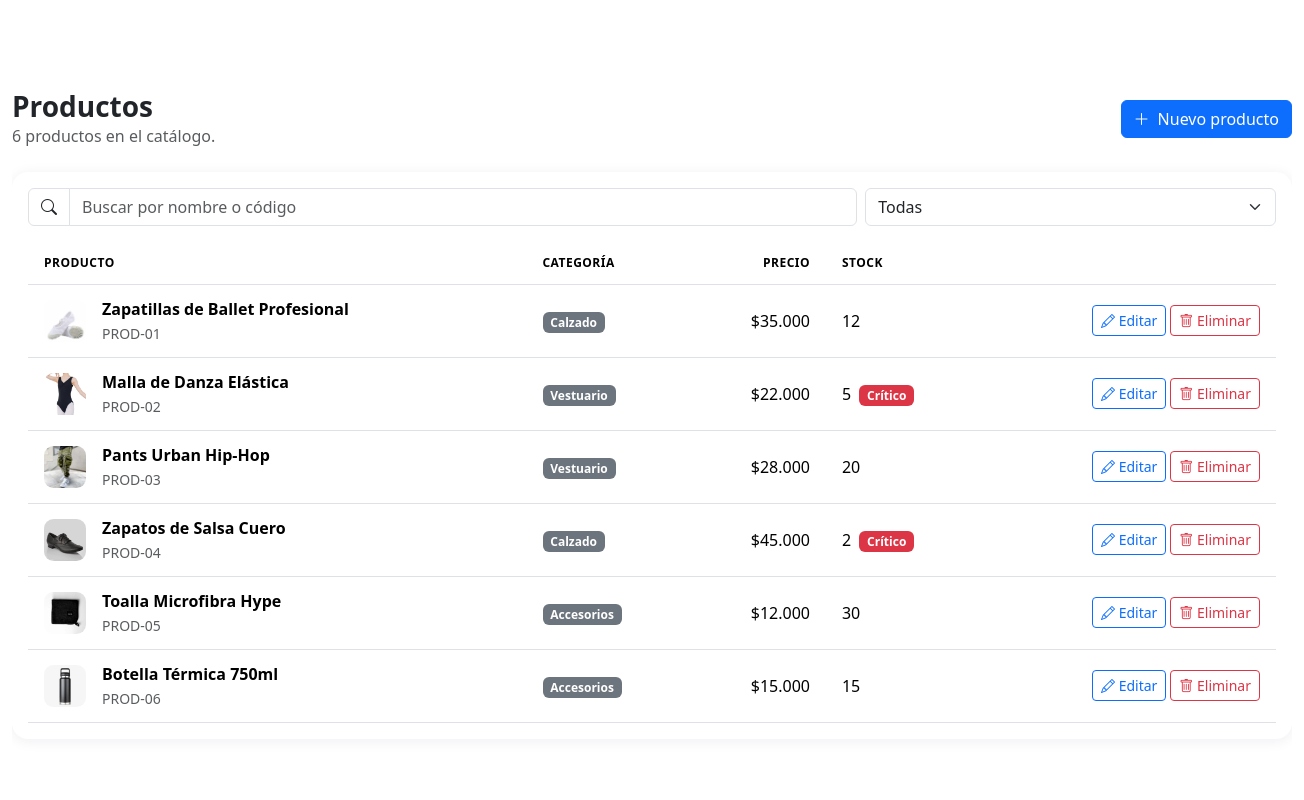
Test case: admin/views/ProductosView › muestra un mensaje cuando nada coincide
In the search field named "Buscar productos": (463, 207) x1=69 y1=188 x2=857 y2=226, type "zzzz"
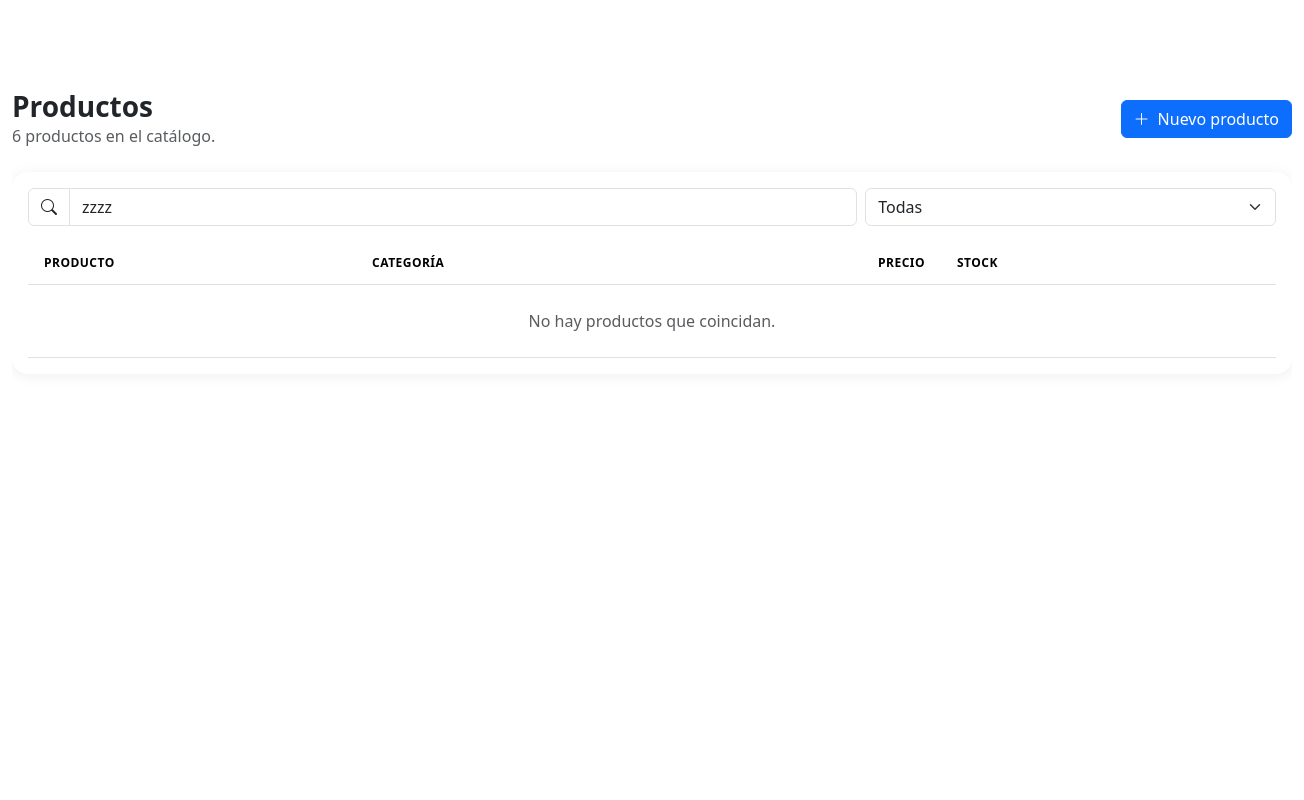
Expected: the text "No hay productos que coincidan." is shown, x1=28 y1=284 x2=1276 y2=357
